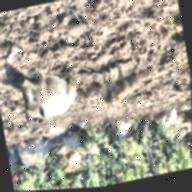boar: (8, 43, 91, 144), (93, 32, 155, 129)
